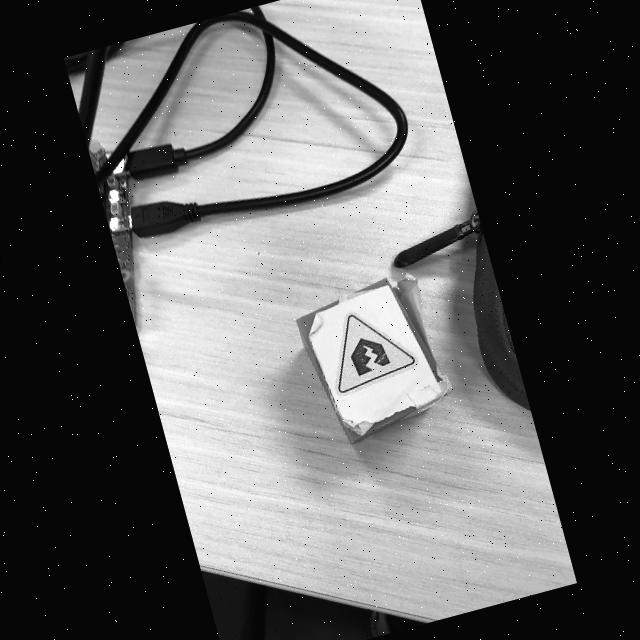Earthquake: (337, 314, 415, 393)
